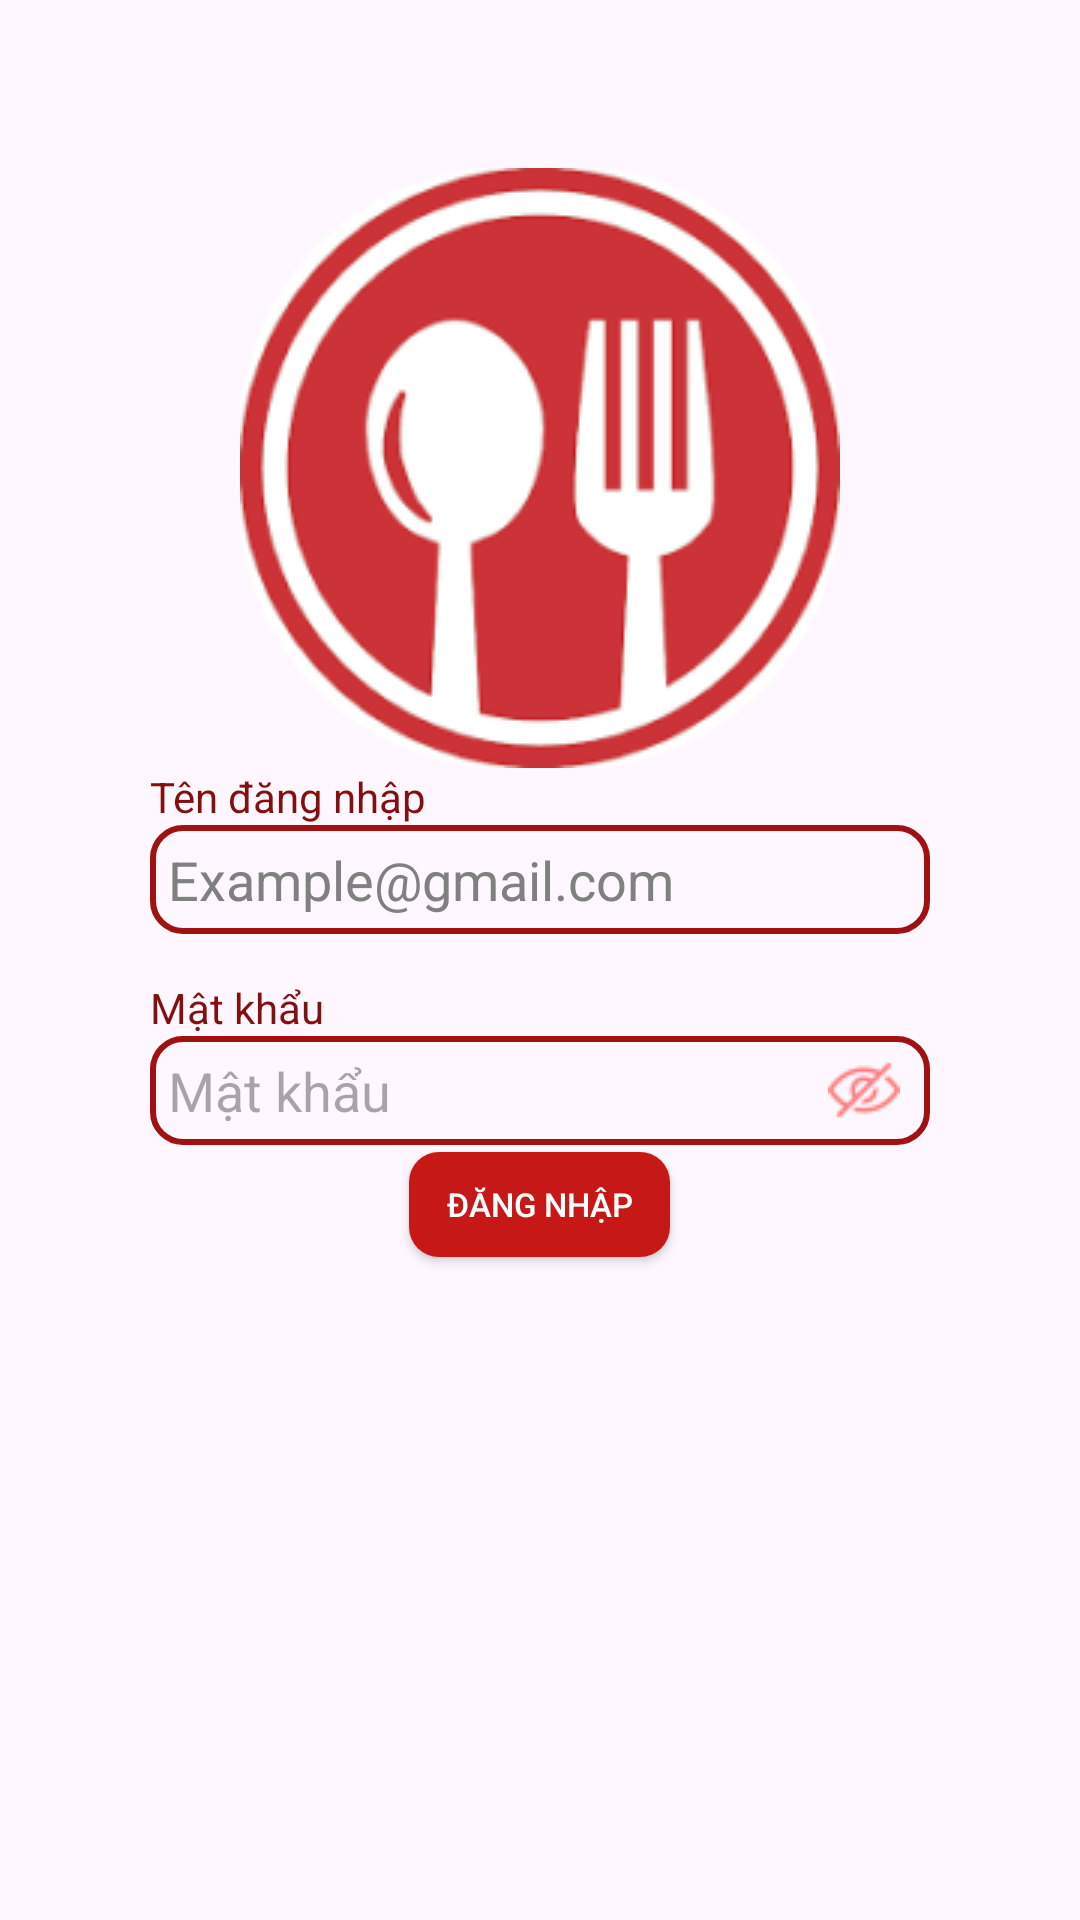

Icon click points for this 1080px×1920px phone screenshot, format (x=x, y=y):
eye hide: (x=864, y=1090)
